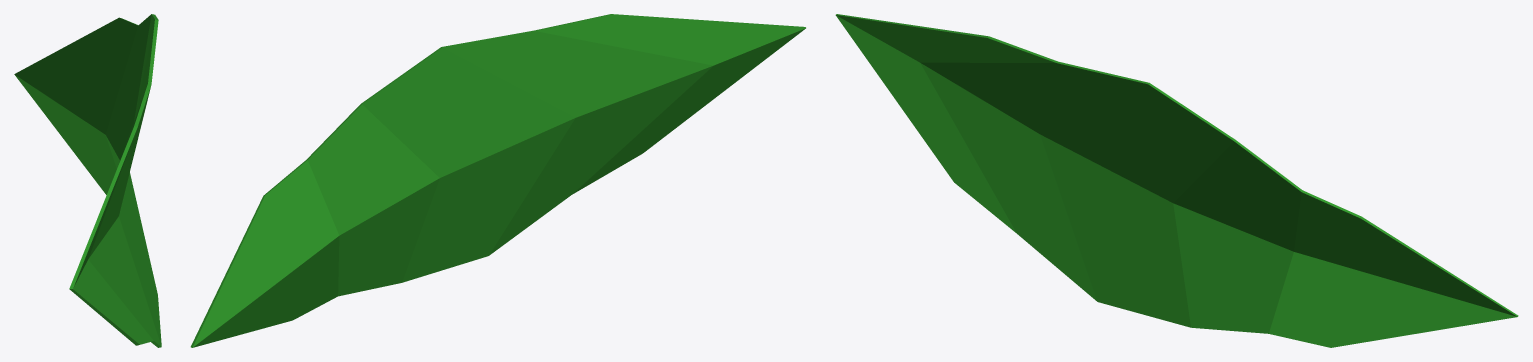
File: oregano5.fbx
3 views of the same model, side by side, from view 1: azimuth 30°, elevation 25°; view 2: azimuth 150°, elevation 25°; view 3: azimuth 270°, elevation 25° (orthographic). The views are drawn at different scales.
Visible parts, largest first — view 1: GRAS.001; view 2: GRAS.001; view 3: GRAS.001.
Boxes of the visible parts, <box> form: GRAS.001: <box>14,14,161,347</box>; GRAS.001: <box>190,14,805,347</box>; GRAS.001: <box>835,14,1518,347</box>.
Bounding box in the file's own units: 2.06 × 1.52 × 4.01.
